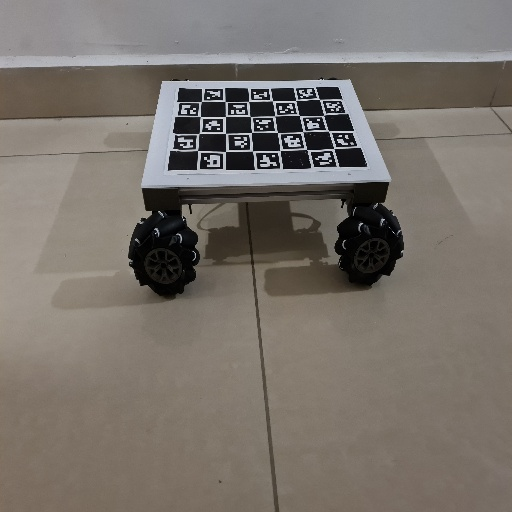Omniwheel: (127, 78, 407, 298)
